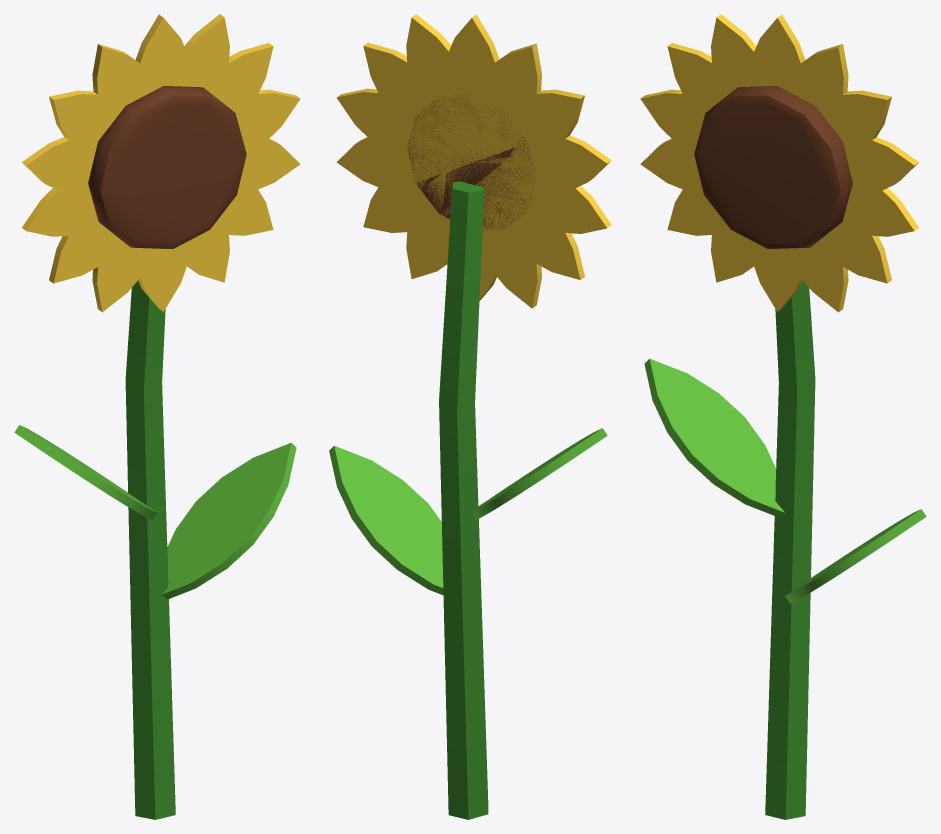
The model's file is Sunflower.fbx.
The picture shows the model from 3 angles, left to right: view 1: azimuth 30°, elevation 25°; view 2: azimuth 150°, elevation 25°; view 3: azimuth 330°, elevation 25°; orthographic projection.
Visible parts, largest first — view 1: Sunflower; view 2: Sunflower; view 3: Sunflower.
Part boxes in pixels (x1,y1,x2,y2): Sunflower: (14,14,300,819); Sunflower: (329,14,611,819); Sunflower: (640,14,926,819).
Bounding box in the file's own units: 1.4 × 3.8 × 0.45.
1 material, 1 textured.
